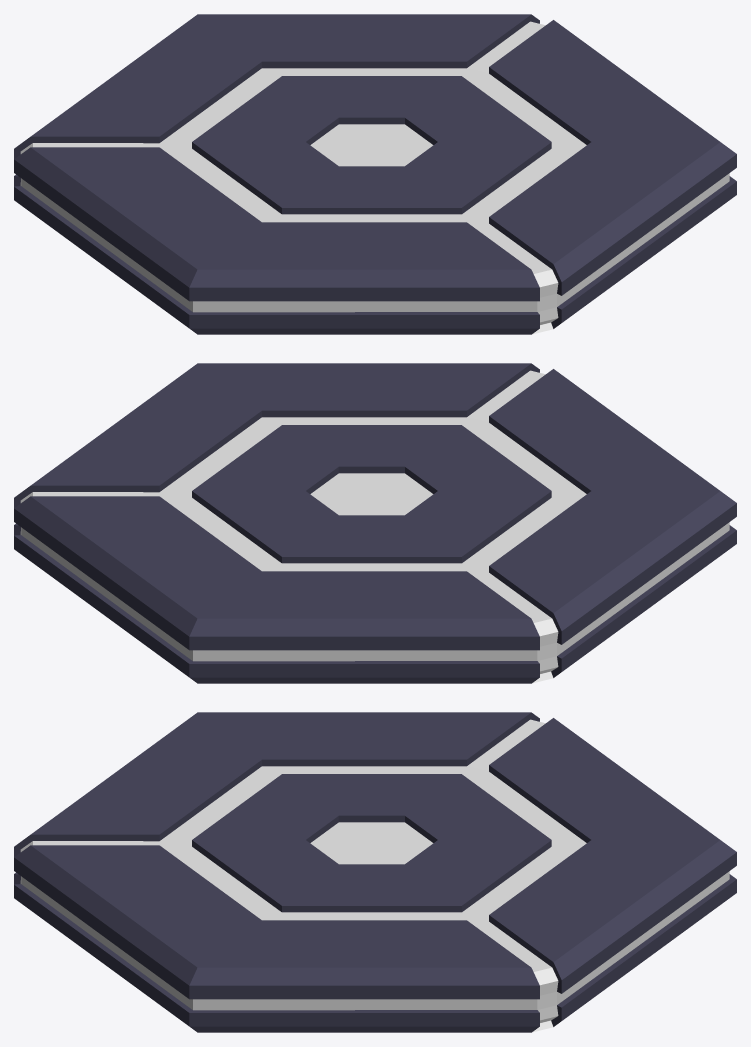
File: Platform.fbx
The picture shows the model from 3 angles, top to bottom: view 1: azimuth 30°, elevation 25°; view 2: azimuth 150°, elevation 25°; view 3: azimuth 270°, elevation 25°; orthographic projection.
Visible parts, largest first — view 1: Cylinder; view 2: Cylinder; view 3: Cylinder.
Part boxes in pixels (<box>): Cylinder: <box>14,14,736,334</box>; Cylinder: <box>14,363,736,683</box>; Cylinder: <box>14,712,736,1032</box>.
Size of the model in its own units: 181 by 20.57 by 207.
